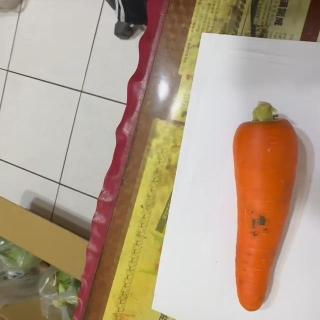carrot: (231, 99, 299, 314)
